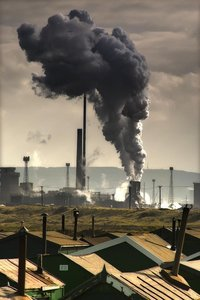smoke: (18, 11, 151, 180)
